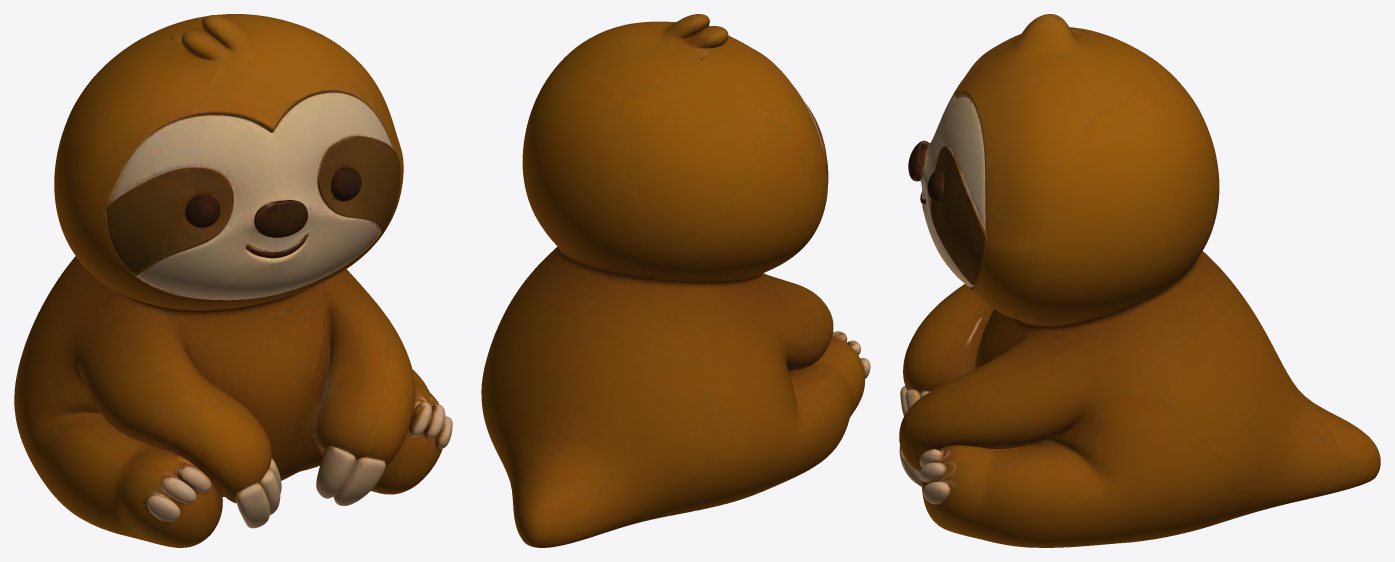
File: sloth.glb
3 views of the same model, side by side, from view 1: azimuth 30°, elevation 25°; view 2: azimuth 150°, elevation 25°; view 3: azimuth 270°, elevation 25° (orthographic). The views are drawn at different scales.
Visible parts, largest first — view 1: texture_pbr_v128; view 2: texture_pbr_v128; view 3: texture_pbr_v128.
Part boxes in pixels (left/top/right/bottom): texture_pbr_v128: left=14, top=14, right=452, bottom=547; texture_pbr_v128: left=481, top=14, right=870, bottom=547; texture_pbr_v128: left=899, top=14, right=1380, bottom=547.
Bounding box in the file's own units: 0.681 × 0.8714 × 0.8398.
1 material, 1 textured.
